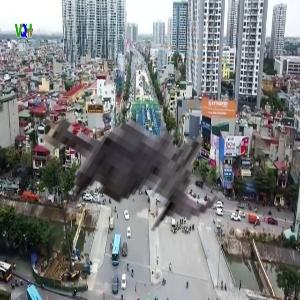drone: (6, 62, 230, 286)
